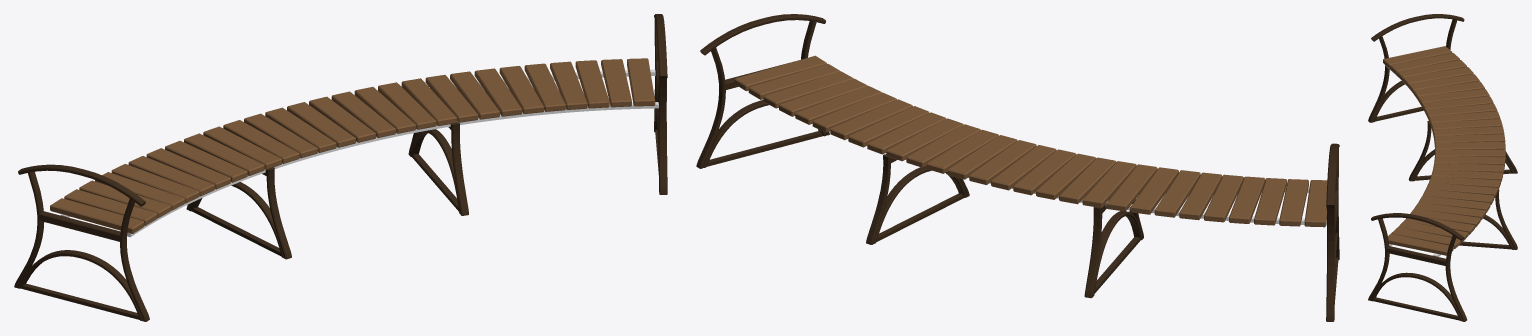
3 views of the same model, side by side, from view 1: azimuth 30°, elevation 25°; view 2: azimuth 150°, elevation 25°; view 3: azimuth 270°, elevation 25° (orthographic). The views are drawn at different scales.
Parts seen in each view (by area): view 1: B-23.3; view 2: B-23.3; view 3: B-23.3.
Part boxes in pixels (x1,y1,x2,y2): B-23.3: (14, 14, 667, 321); B-23.3: (696, 14, 1339, 321); B-23.3: (1368, 14, 1517, 321).
Size of the model in its own units: 356 by 69.73 by 101.
